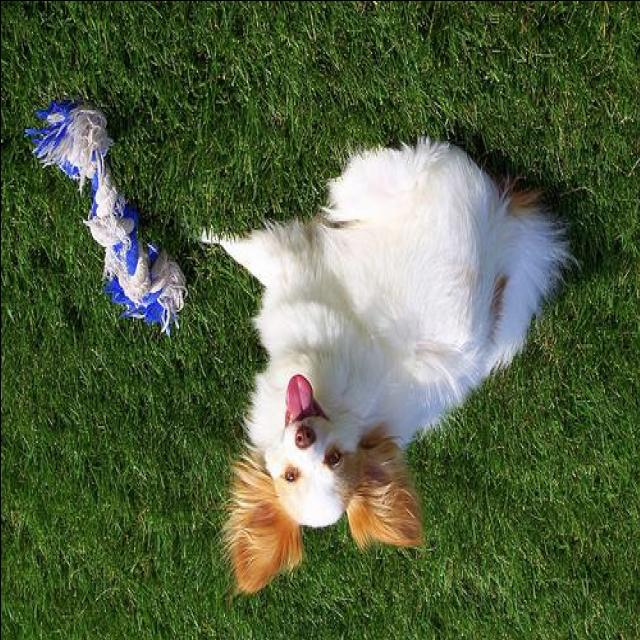papillon: (198, 138, 572, 592)
